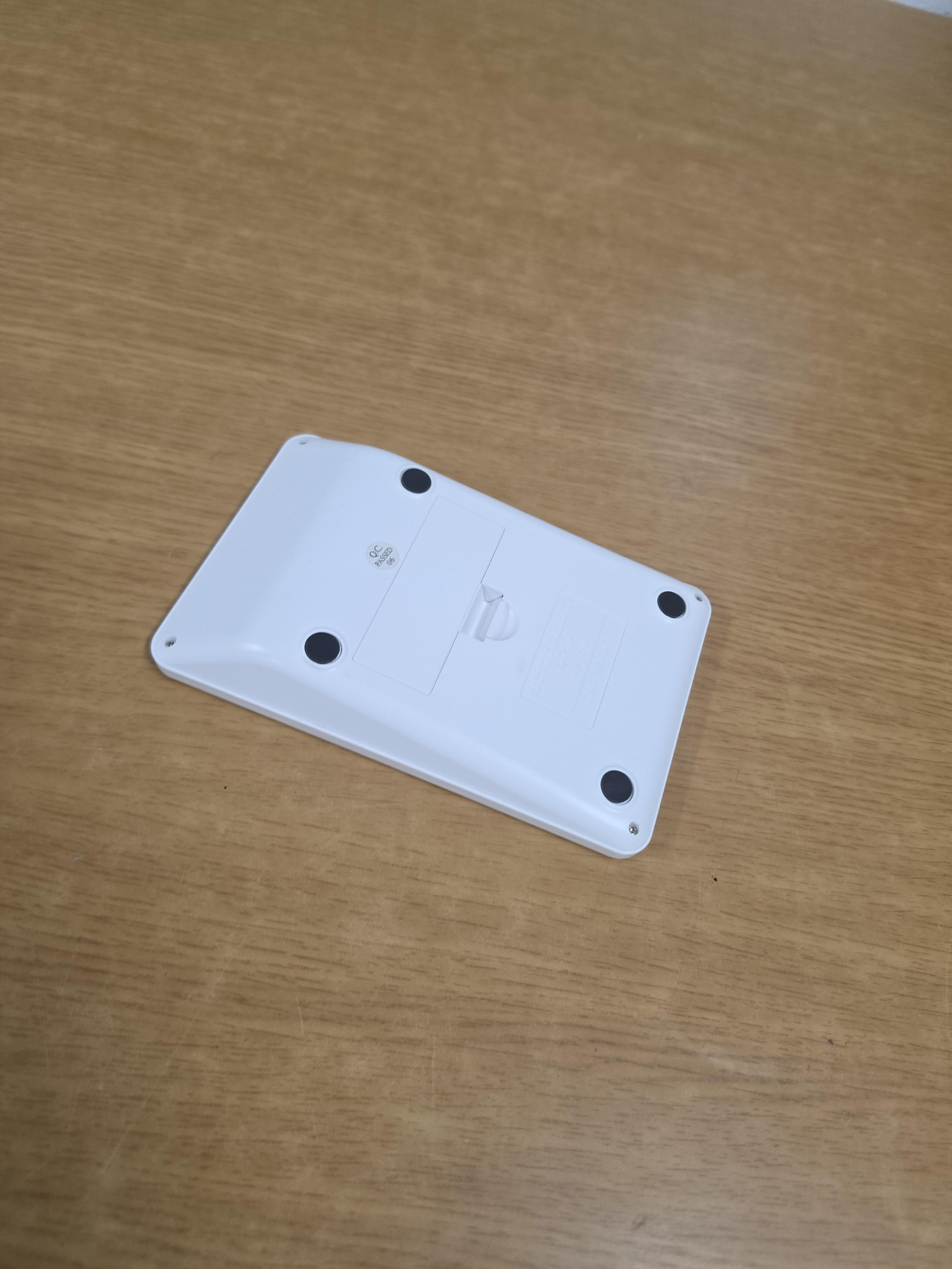calculator: (150, 434, 712, 858)
